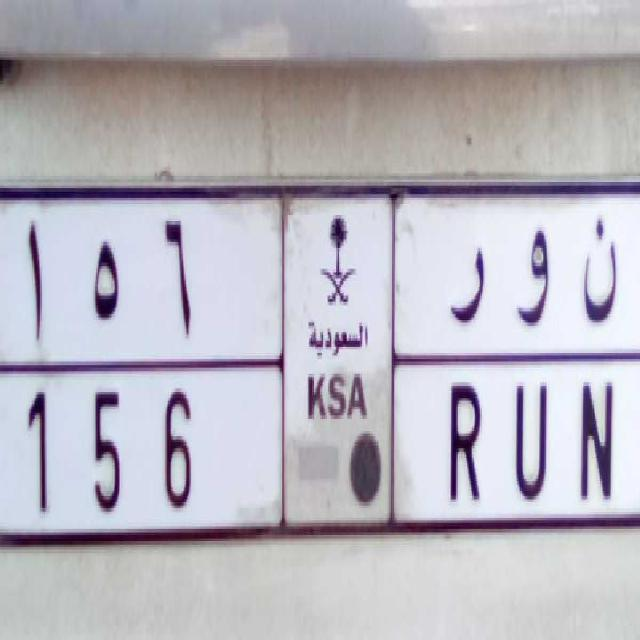license_plate: (5, 358, 631, 566)
